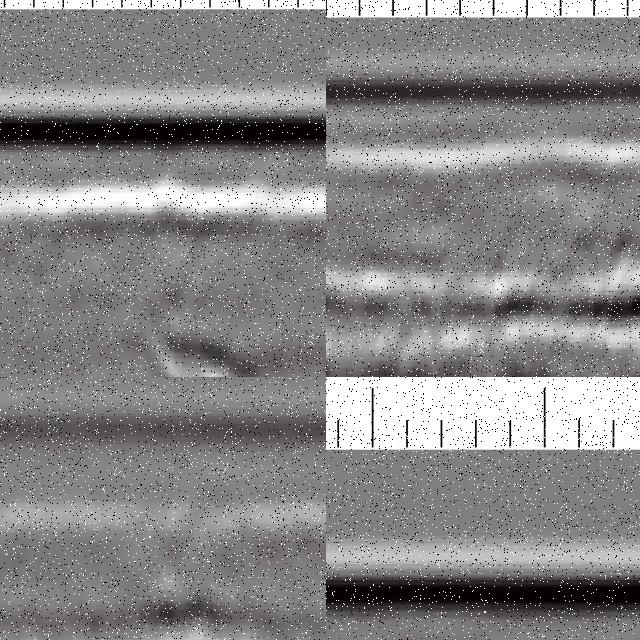loose: (327, 213, 450, 378), (72, 590, 285, 640), (157, 322, 293, 378)
